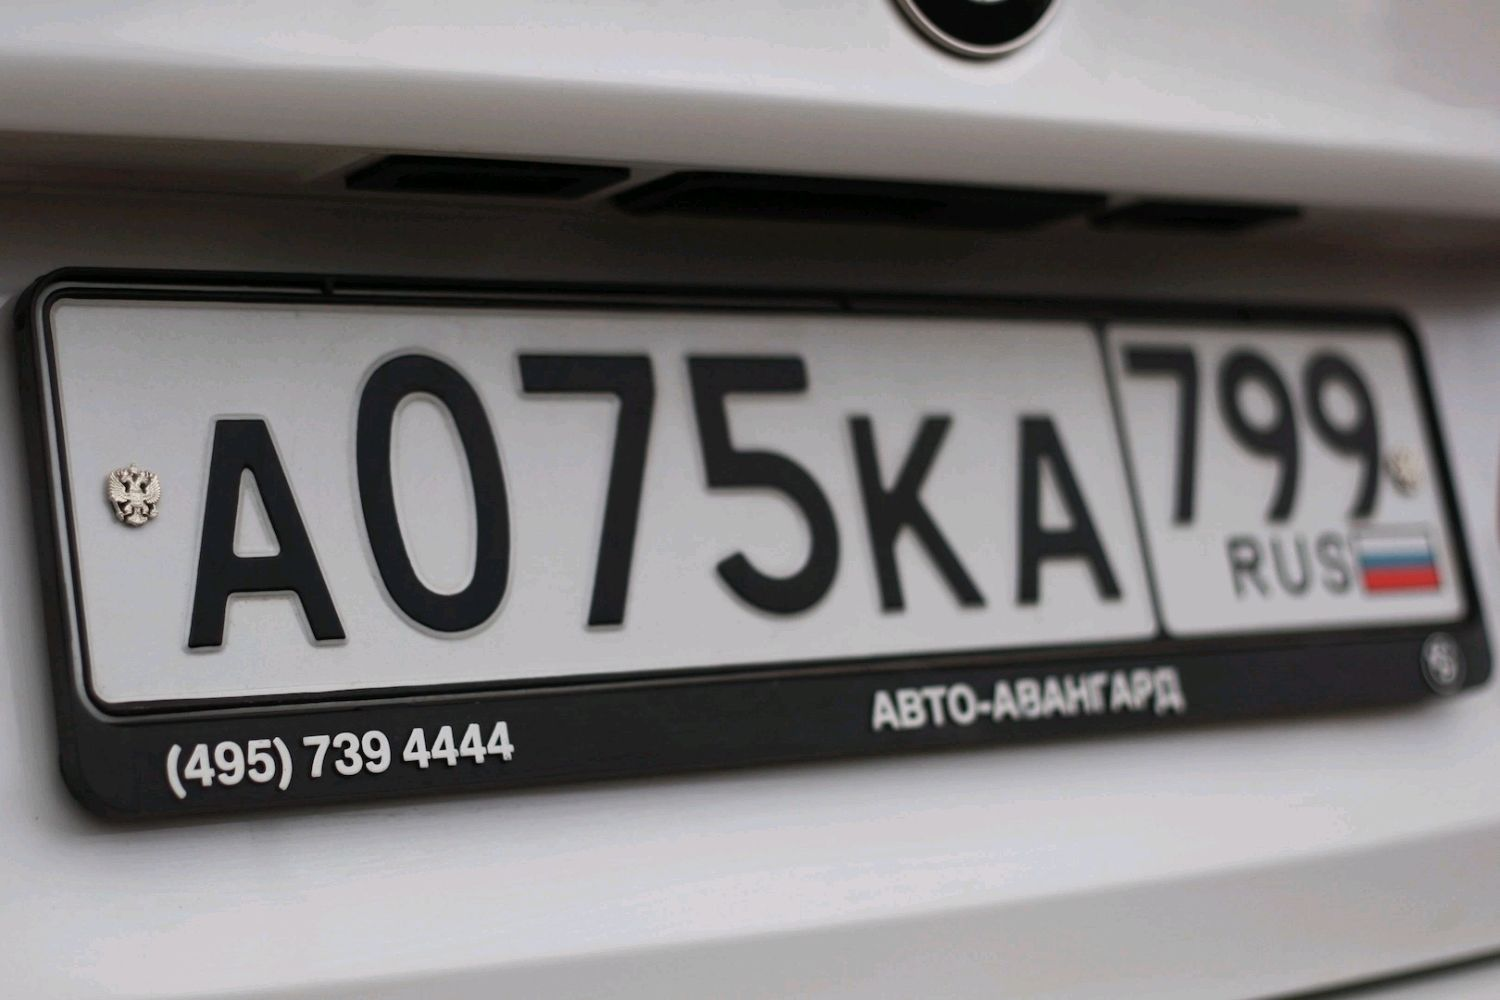number_plate: (26, 131, 1448, 665)
